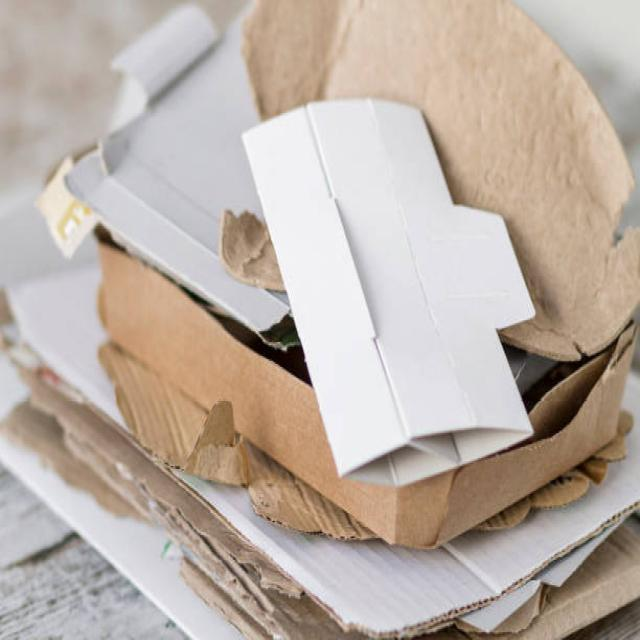cardboard: (34, 26, 630, 640), (247, 99, 546, 458), (90, 373, 260, 551)
